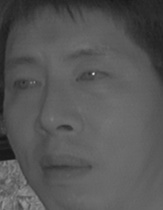eye: (73, 66, 111, 88), (9, 75, 44, 92)
mouth: (37, 149, 92, 184)
